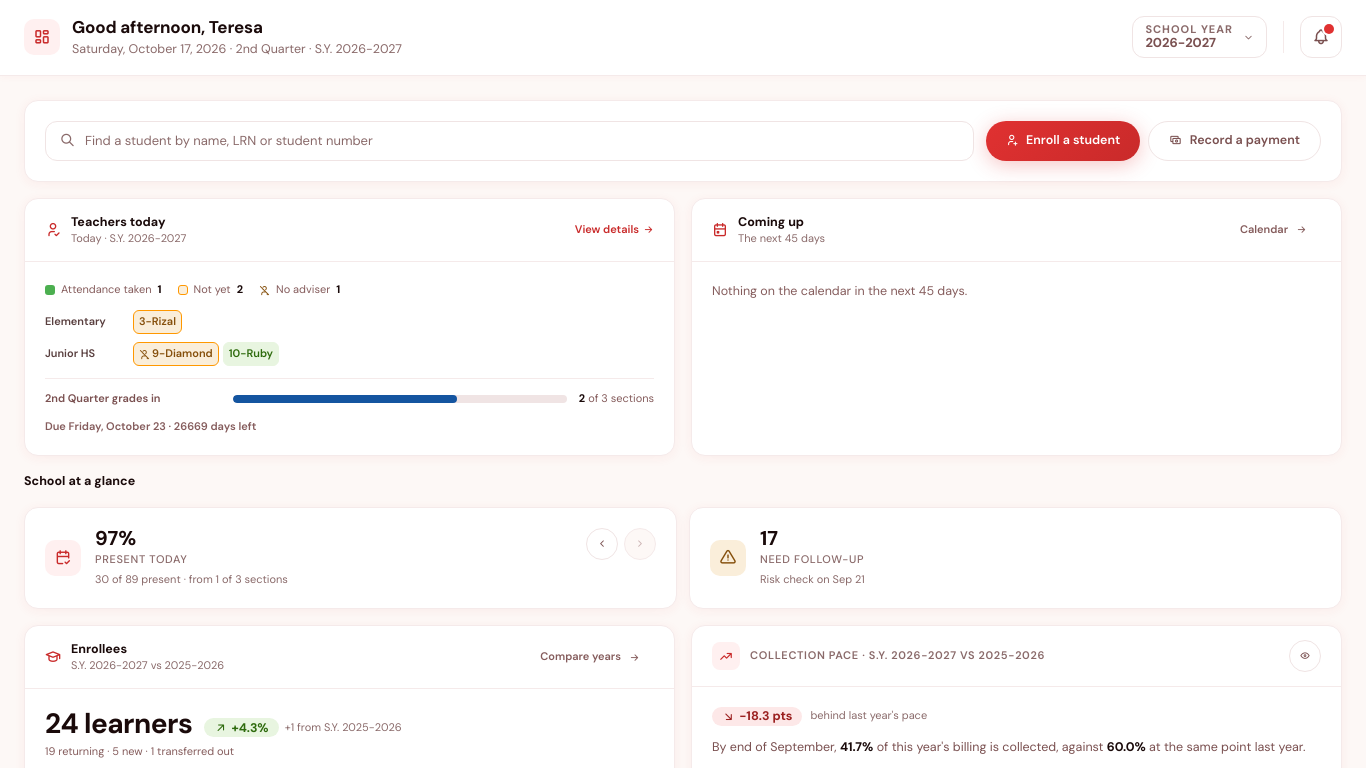
Test: AdminHome — teachers today › keeps a part-marked section amber, and says how far it got
Expected: the text titled "Grade 3 · Rizal · attendance 12 of 30 marked" is shown, [133,310,182,334]
What coordinates should you click on to do the following:
click the button with aria-label "Teachers today: open details"
I would click on:
 (350, 327)
Its box is [25,198,674,455].
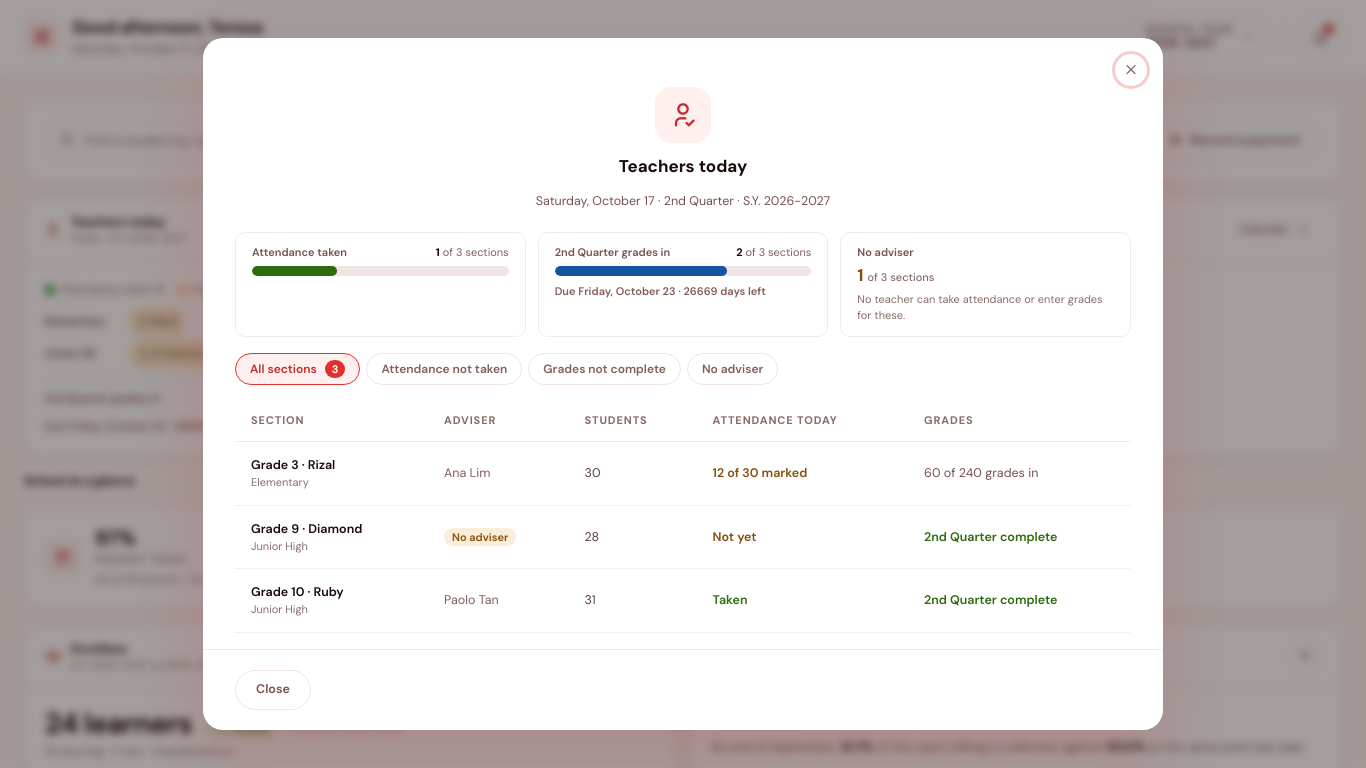
Expected: the text "12 of 30 marked" is shown, [713,465,807,481]
